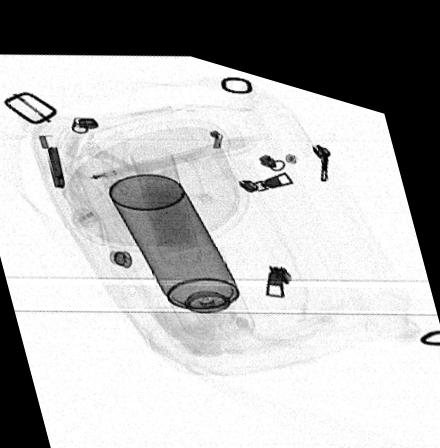Sprayer: (109, 165, 256, 328)
